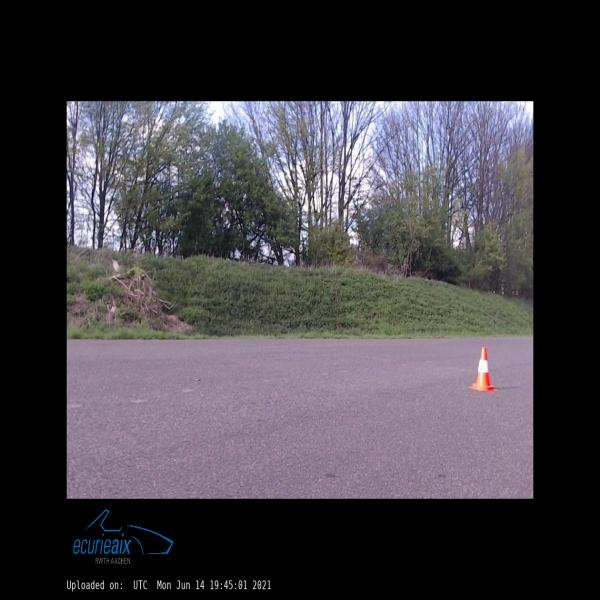orange_cone: (469, 347, 498, 391)
